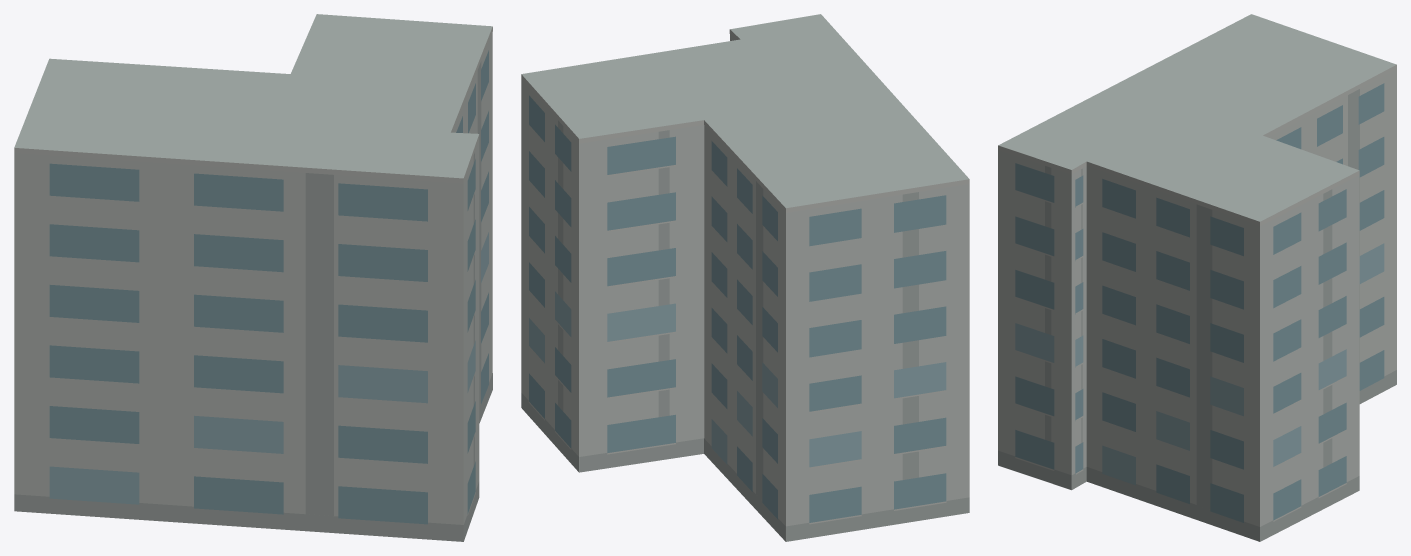
File: survey-upis-32801876.glb
3 views of the same model, side by side, from view 1: azimuth 30°, elevation 25°; view 2: azimuth 150°, elevation 25°; view 3: azimuth 270°, elevation 25° (orthographic). The views are drawn at different scales.
Parts seen in each view (by area): view 1: survey-upis-32801876.tmp; view 2: survey-upis-32801876.tmp; view 3: survey-upis-32801876.tmp.
Part boxes in pixels (left/top/right/bottom): survey-upis-32801876.tmp: left=14, top=14, right=492, bottom=541; survey-upis-32801876.tmp: left=521, top=14, right=969, bottom=541; survey-upis-32801876.tmp: left=998, top=14, right=1396, bottom=541.
Size of the model in its own units: 23.47 by 16.85 by 19.03.
